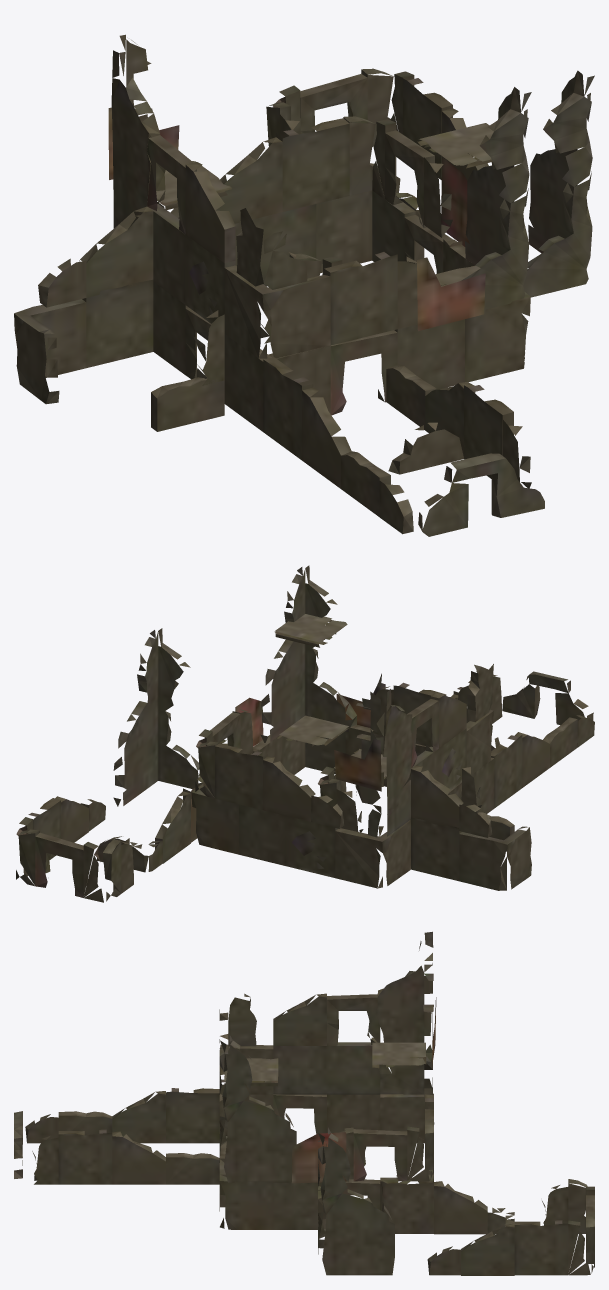
File: jungle_ruins_b-map.glb
The picture shows the model from 3 angles, top to bottom: view 1: azimuth 30°, elevation 25°; view 2: azimuth 150°, elevation 25°; view 3: azimuth 270°, elevation 25°; orthographic projection. The views are drawn at different scales.
Parts seen in each view (by area): view 1: jungle_ruins_b_HLOD; view 2: jungle_ruins_b_HLOD; view 3: jungle_ruins_b_HLOD.
Part boxes in pixels (x1,y1,x2,y2): jungle_ruins_b_HLOD: (14,34,594,536); jungle_ruins_b_HLOD: (16,565,594,902); jungle_ruins_b_HLOD: (14,931,594,1275).
Size of the model in its own units: 24 by 13.46 by 32.5.
Materials: 1 (1 with a texture image).
